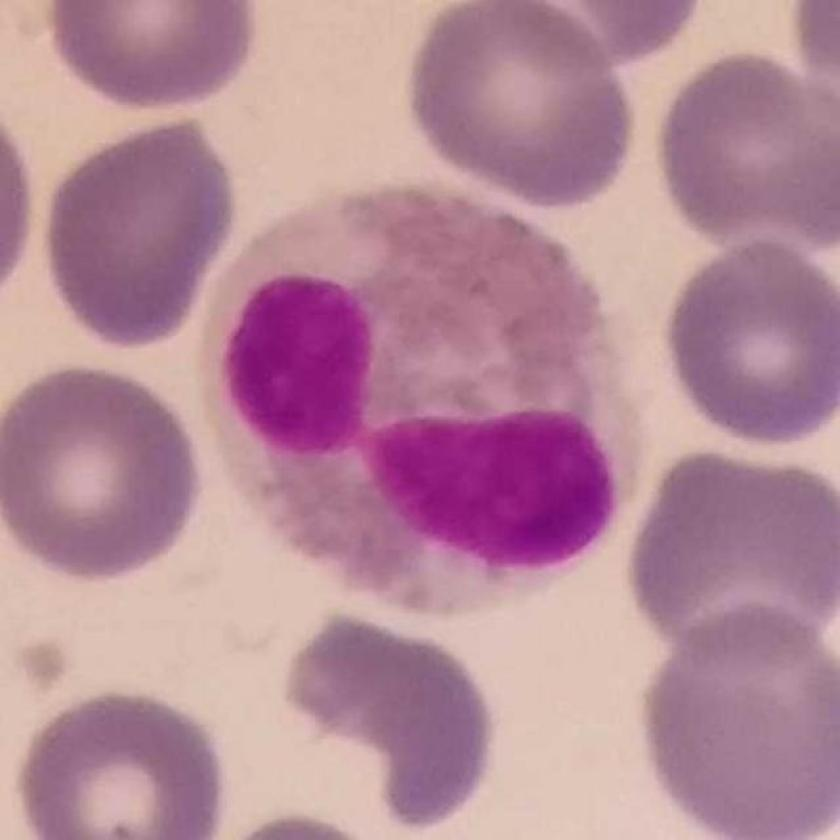eosinophil: (197, 174, 642, 618)
